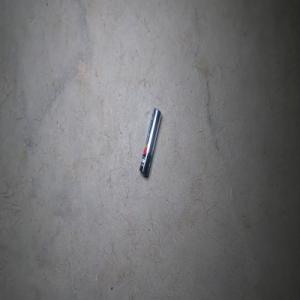Battery: (139, 106, 161, 177)
